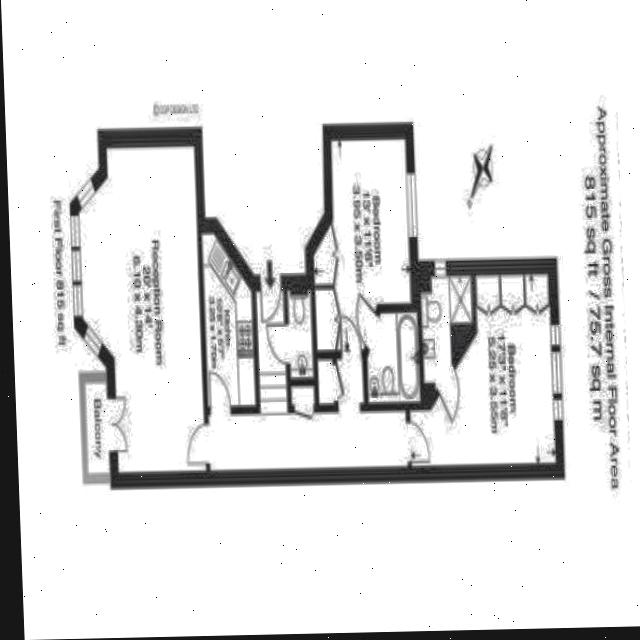room: (76, 145, 206, 476), (406, 273, 555, 468), (206, 357, 407, 473), (309, 136, 412, 353), (200, 231, 255, 409), (419, 276, 474, 392), (364, 312, 420, 406), (254, 290, 288, 412), (286, 290, 313, 380), (316, 358, 334, 406)
